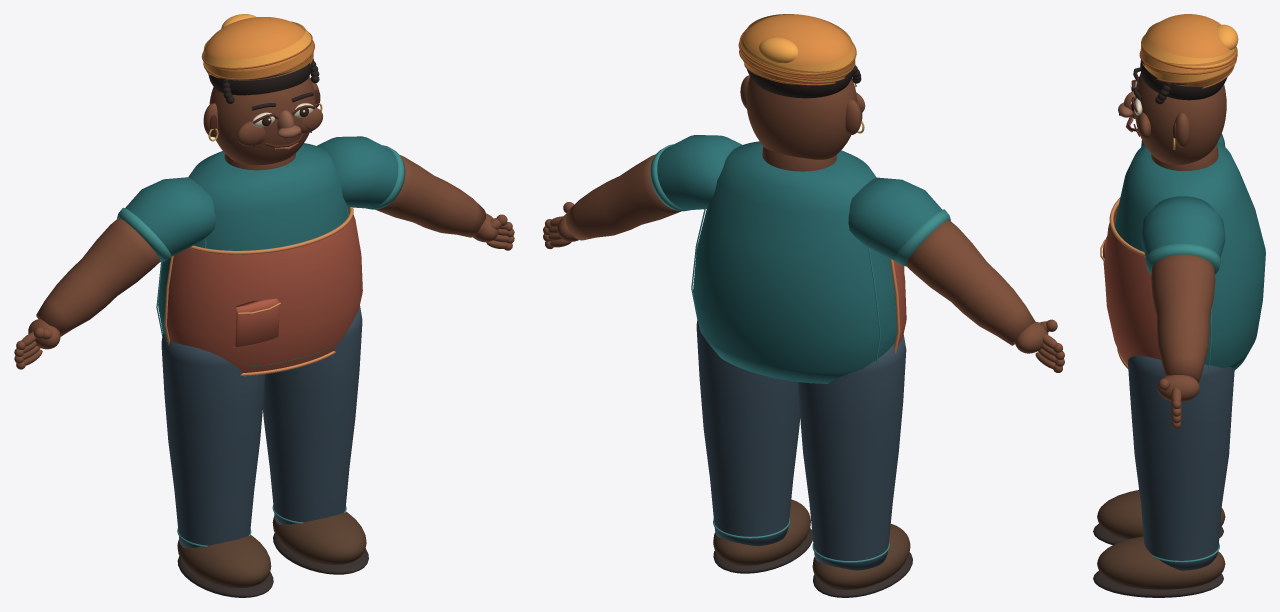
The picture shows the model from 3 angles, left to right: view 1: azimuth 30°, elevation 25°; view 2: azimuth 150°, elevation 25°; view 3: azimuth 270°, elevation 25°; orthographic projection. The views are drawn at different scales.
Parts seen in each view (by area): view 1: Curved fitted apron panel, Left trouser leg, Right trouser leg, Tunic tailored over full torso, Arm shoulder to wrist, Head, Shaped short sleeve, Arm shoulder to wrist.001, Shaped short sleeve.001, Leather shoe, Leather shoe.001, Gathered headwrap crown (+8 smaller); view 2: Tunic tailored over full torso, Left trouser leg, Right trouser leg, Arm shoulder to wrist, Head, Shaped short sleeve, Arm shoulder to wrist.001, Shaped short sleeve.001, Gathered headwrap crown, Leather shoe.001, Leather shoe, Hair beneath wrap (+7 smaller); view 3: Right trouser leg, Tunic tailored over full torso, Arm shoulder to wrist.001, Curved fitted apron panel, Head, Leather shoe.001, Shaped short sleeve.001, Gathered headwrap crown, Leather shoe, Shoe sole.001, Hair beneath wrap, Sleeve bound cuff.001 (+12 smaller).
Boxes of the visible parts, x1=… form: Curved fitted apron panel: x1=167, y1=207, x2=362, y2=372; Left trouser leg: x1=161, y1=333, x2=265, y2=548; Right trouser leg: x1=263, y1=306, x2=362, y2=524; Tunic tailored over full torso: x1=158, y1=143, x2=349, y2=334; Arm shoulder to wrist: x1=36, y1=218, x2=160, y2=336; Head: x1=209, y1=76, x2=315, y2=165; Shaped short sleeve: x1=125, y1=177, x2=215, y2=256; Arm shoulder to wrist.001: x1=375, y1=155, x2=485, y2=237; Shaped short sleeve.001: x1=317, y1=136, x2=398, y2=208; Leather shoe: x1=177, y1=535, x2=271, y2=588; Leather shoe.001: x1=272, y1=512, x2=366, y2=564; Gathered headwrap crown: x1=204, y1=17, x2=312, y2=74; Tunic tailored over full torso: x1=693, y1=141, x2=896, y2=383; Left trouser leg: x1=798, y1=334, x2=906, y2=570; Right trouser leg: x1=696, y1=320, x2=800, y2=546; Arm shoulder to wrist: x1=905, y1=220, x2=1035, y2=345; Head: x1=746, y1=76, x2=857, y2=159; Shaped short sleeve: x1=848, y1=177, x2=942, y2=260; Arm shoulder to wrist.001: x1=565, y1=154, x2=680, y2=240; Shaped short sleeve.001: x1=657, y1=135, x2=742, y2=209; Gathered headwrap crown: x1=745, y1=14, x2=852, y2=84; Leather shoe.001: x1=713, y1=499, x2=810, y2=565; Leather shoe: x1=812, y1=524, x2=910, y2=589; Hair beneath wrap: x1=747, y1=69, x2=853, y2=98; Right trouser leg: x1=1128, y1=355, x2=1234, y2=570; Tunic tailored over full torso: x1=1114, y1=142, x2=1265, y2=370; Arm shoulder to wrist.001: x1=1151, y1=254, x2=1215, y2=382; Curved fitted apron panel: x1=1104, y1=206, x2=1160, y2=364; Head: x1=1135, y1=73, x2=1226, y2=164; Leather shoe.001: x1=1097, y1=536, x2=1225, y2=589; Shaped short sleeve.001: x1=1141, y1=196, x2=1225, y2=257; Gathered headwrap crown: x1=1141, y1=14, x2=1231, y2=84; Leather shoe: x1=1097, y1=490, x2=1225, y2=539; Shoe sole.001: x1=1093, y1=571, x2=1223, y2=597; Hair beneath wrap: x1=1140, y1=60, x2=1227, y2=100; Sleeve bound cuff.001: x1=1145, y1=243, x2=1220, y2=274.
Bounding box in the file's own units: 1.73 × 1.76 × 0.512.
